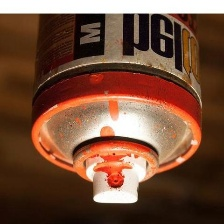aerosol_cans: (23, 13, 207, 210)
